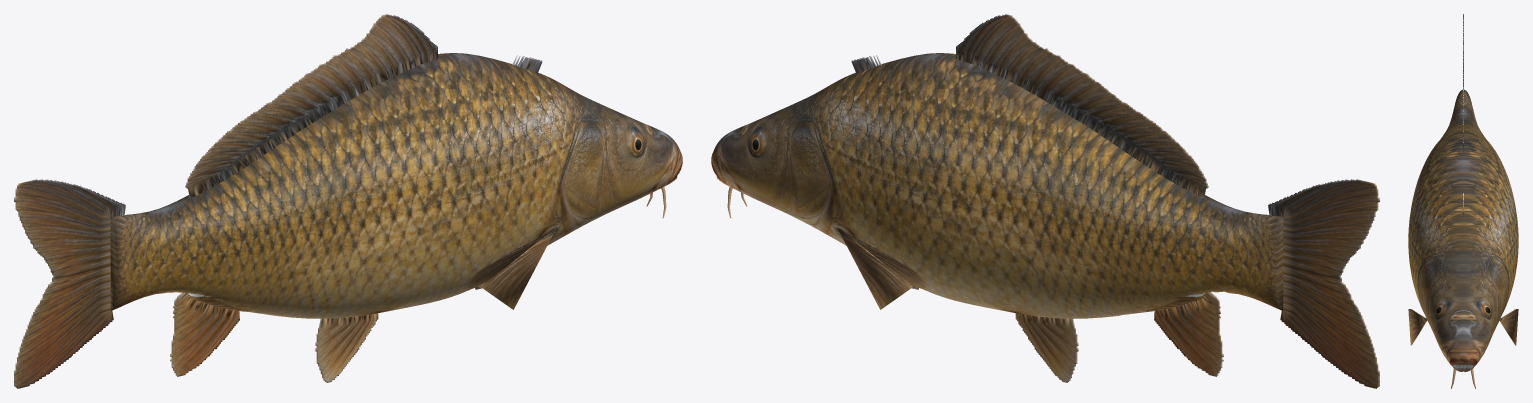
File: carp.glb
3 renders of one model, left to right at view 1: azimuth 30°, elevation 25°; view 2: azimuth 150°, elevation 25°; view 3: azimuth 270°, elevation 25°, orthographic. The views are drawn at different scales.
Visible parts, largest first — view 1: carp_realistic.003; view 2: carp_realistic.003; view 3: carp_realistic.003.
Part boxes in pixels (x1,y1,x2,y2): carp_realistic.003: [14, 14, 682, 388]; carp_realistic.003: [711, 14, 1379, 388]; carp_realistic.003: [1408, 14, 1518, 388].
Size of the model in its own units: 1 by 0.5075 by 0.1895.
3 materials, 3 textured.
